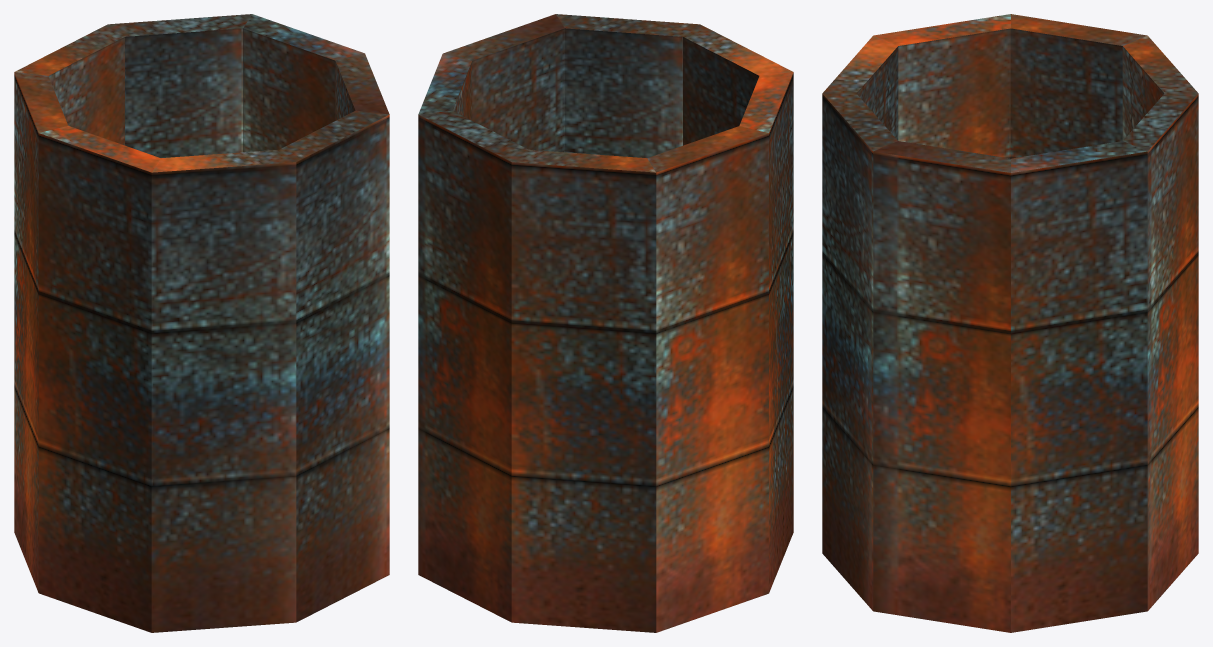
The model's file is barrel.fbx.
3 renders of one model, left to right at view 1: azimuth 30°, elevation 25°; view 2: azimuth 150°, elevation 25°; view 3: azimuth 270°, elevation 25°, orthographic.
Parts seen in each view (by area): view 1: Cube; view 2: Cube; view 3: Cube.
Part boxes in pixels (<box>): Cube: <box>14,14,389,632</box>; Cube: <box>418,14,793,632</box>; Cube: <box>822,14,1198,632</box>.
Size of the model in its own units: 239 by 322 by 239.
Materials: 1 (1 with a texture image).
